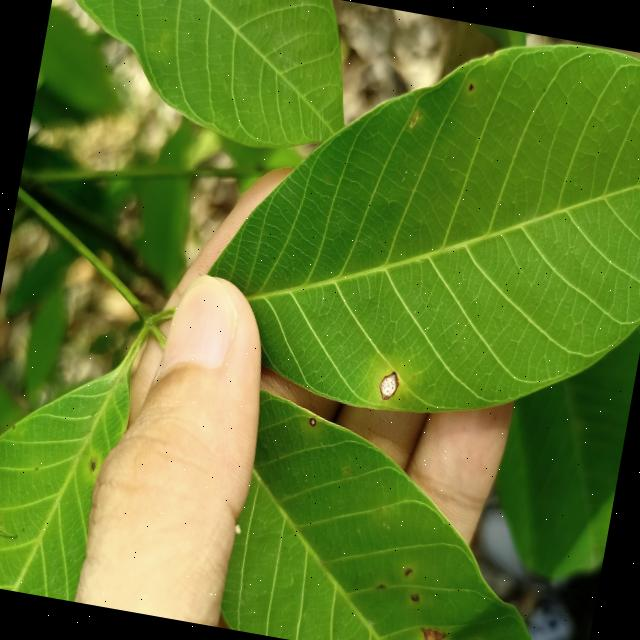Colletotrichum: (377, 367, 401, 400), (308, 416, 318, 426), (468, 82, 474, 90)
